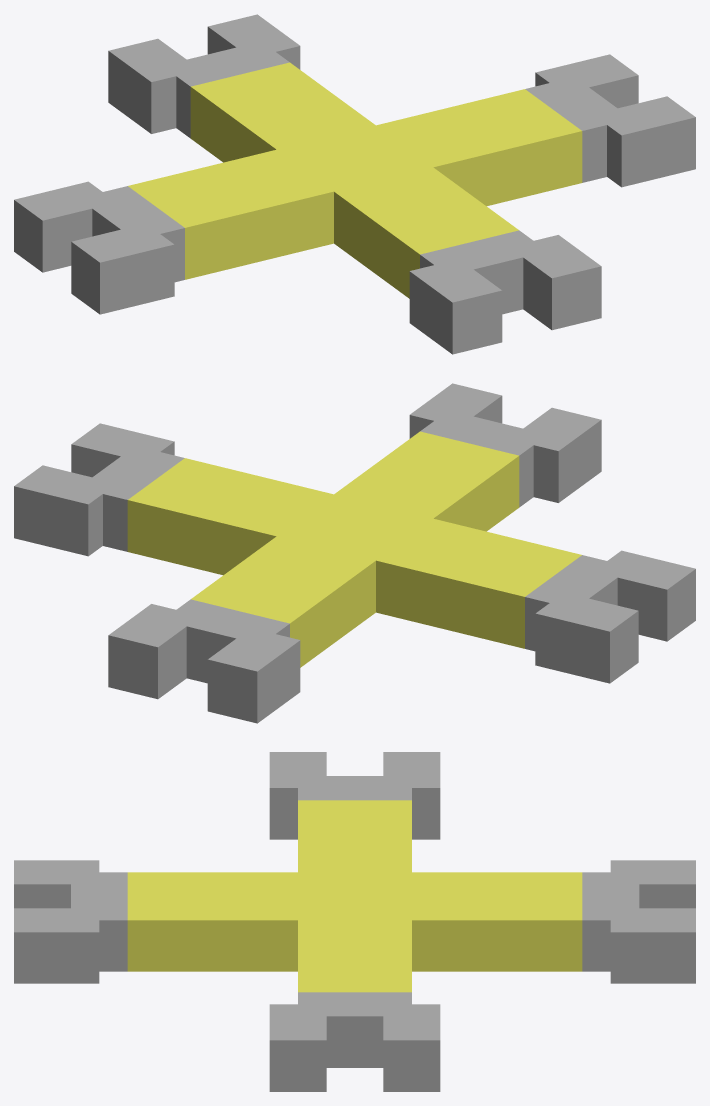
Rendered from walle arms.obj.
The picture shows the model from 3 angles, top to bottom: view 1: azimuth 30°, elevation 25°; view 2: azimuth 150°, elevation 25°; view 3: azimuth 270°, elevation 25°; orthographic projection.
Size of the model in its own units: 24 by 2 by 24.
Materials: 1 (1 with a texture image).
